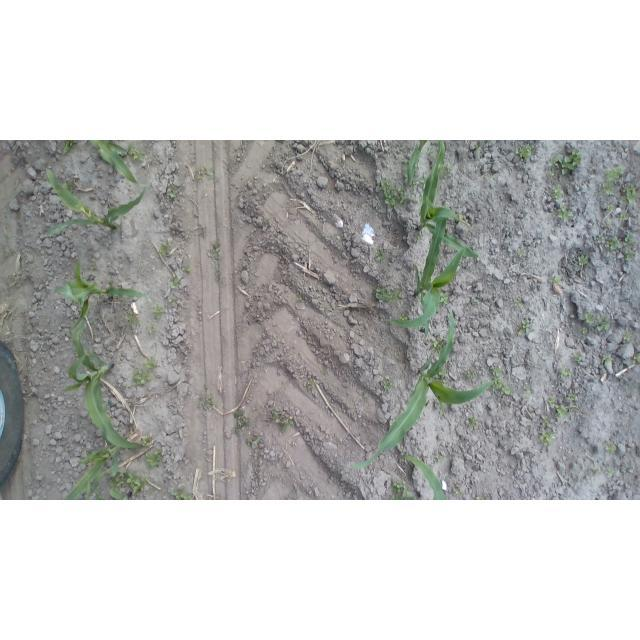Maize: (348, 315, 497, 469), (60, 320, 141, 448), (387, 216, 465, 343), (415, 140, 479, 260), (43, 168, 146, 238), (56, 260, 149, 334), (64, 446, 121, 500), (398, 452, 447, 501), (81, 141, 136, 184), (406, 140, 431, 188)
Weeds: (109, 470, 148, 495), (549, 150, 583, 177), (130, 357, 159, 388), (380, 179, 409, 209), (600, 166, 624, 198), (491, 367, 513, 396), (582, 312, 609, 333), (376, 286, 405, 303), (392, 481, 417, 500), (127, 141, 146, 164), (621, 184, 640, 206), (146, 447, 162, 470), (171, 484, 194, 500), (515, 142, 533, 161), (555, 203, 573, 221), (233, 411, 251, 428), (553, 403, 571, 420), (197, 165, 216, 181), (539, 428, 555, 447), (280, 419, 296, 436), (202, 395, 217, 411), (605, 236, 620, 252), (208, 243, 220, 262), (623, 232, 637, 248), (152, 305, 166, 320), (518, 319, 531, 335), (431, 338, 443, 355), (167, 275, 181, 289), (556, 367, 572, 379), (63, 140, 77, 153), (158, 243, 172, 256), (433, 371, 447, 384), (603, 442, 617, 455), (552, 185, 564, 200), (166, 187, 178, 201), (125, 311, 137, 325), (375, 247, 386, 261), (467, 416, 479, 428), (419, 173, 428, 189), (441, 163, 452, 176), (247, 436, 262, 445), (577, 255, 589, 266), (383, 378, 393, 391), (440, 291, 449, 305), (549, 276, 562, 285), (571, 354, 584, 363), (141, 436, 151, 447), (180, 264, 192, 273), (438, 401, 447, 413), (64, 179, 73, 191), (524, 384, 532, 397), (623, 331, 632, 341), (547, 396, 557, 405), (568, 392, 577, 402), (605, 469, 615, 478), (625, 250, 633, 261), (632, 353, 640, 364), (96, 492, 105, 501), (606, 204, 615, 213), (601, 354, 611, 362), (477, 141, 483, 154), (271, 410, 278, 421), (465, 371, 476, 378), (400, 312, 409, 320), (168, 296, 176, 304), (514, 300, 522, 308), (542, 418, 550, 426), (426, 147, 434, 155), (620, 214, 629, 221), (435, 455, 445, 461), (297, 291, 303, 301), (148, 326, 156, 333), (307, 380, 313, 389), (91, 263, 98, 270), (597, 236, 603, 244), (592, 467, 600, 473), (454, 488, 462, 494), (484, 173, 492, 179), (518, 251, 526, 257), (416, 236, 422, 243), (472, 301, 480, 306), (475, 496, 482, 501), (152, 341, 157, 347), (263, 220, 269, 225)
